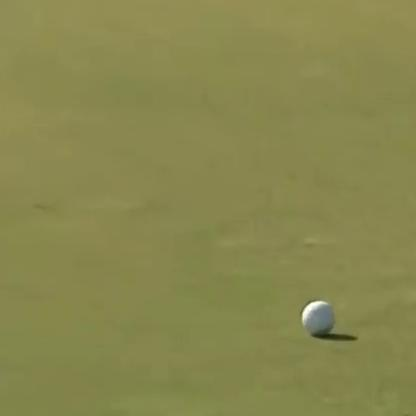golfball: (297, 292, 333, 334)
